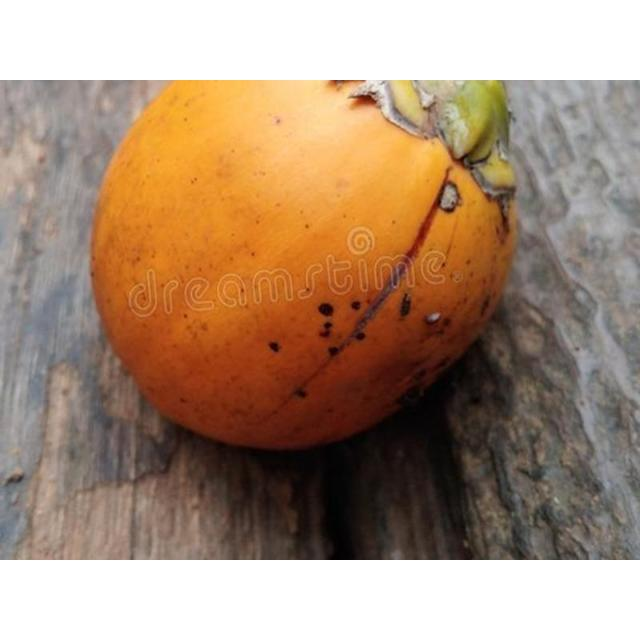good: (88, 80, 519, 454)
